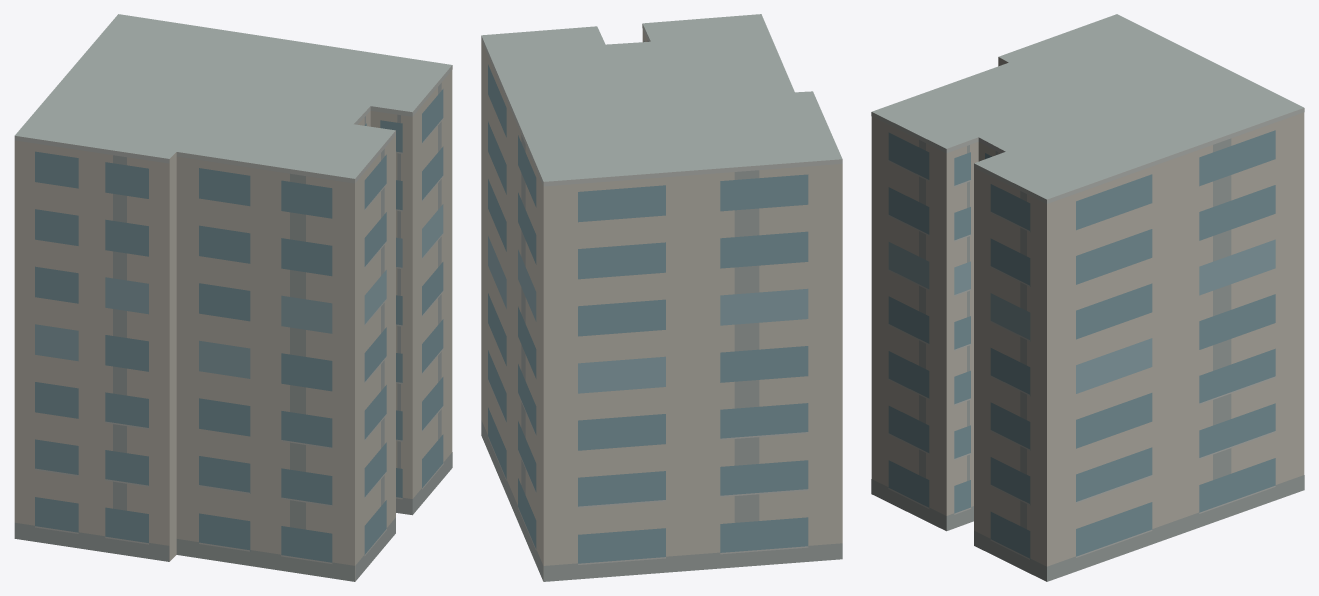
The model's file is survey-upis-32954791.glb.
The picture shows the model from 3 angles, left to right: view 1: azimuth 30°, elevation 25°; view 2: azimuth 150°, elevation 25°; view 3: azimuth 270°, elevation 25°; orthographic projection. The views are drawn at different scales.
Parts seen in each view (by area): view 1: survey-upis-32954791.tmp; view 2: survey-upis-32954791.tmp; view 3: survey-upis-32954791.tmp.
Part boxes in pixels (bbox=[...]): survey-upis-32954791.tmp: bbox=[14, 14, 452, 581]; survey-upis-32954791.tmp: bbox=[481, 14, 842, 581]; survey-upis-32954791.tmp: bbox=[871, 14, 1304, 581].
Bounding box in the file's own units: 21.87 × 21 × 21.56.
